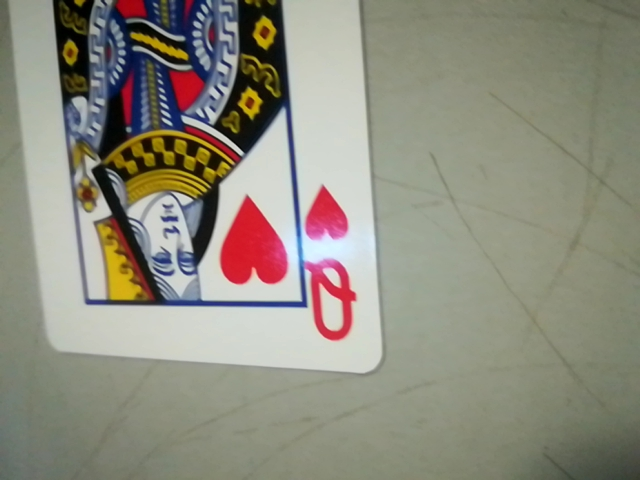hx q: (294, 175, 370, 361)
